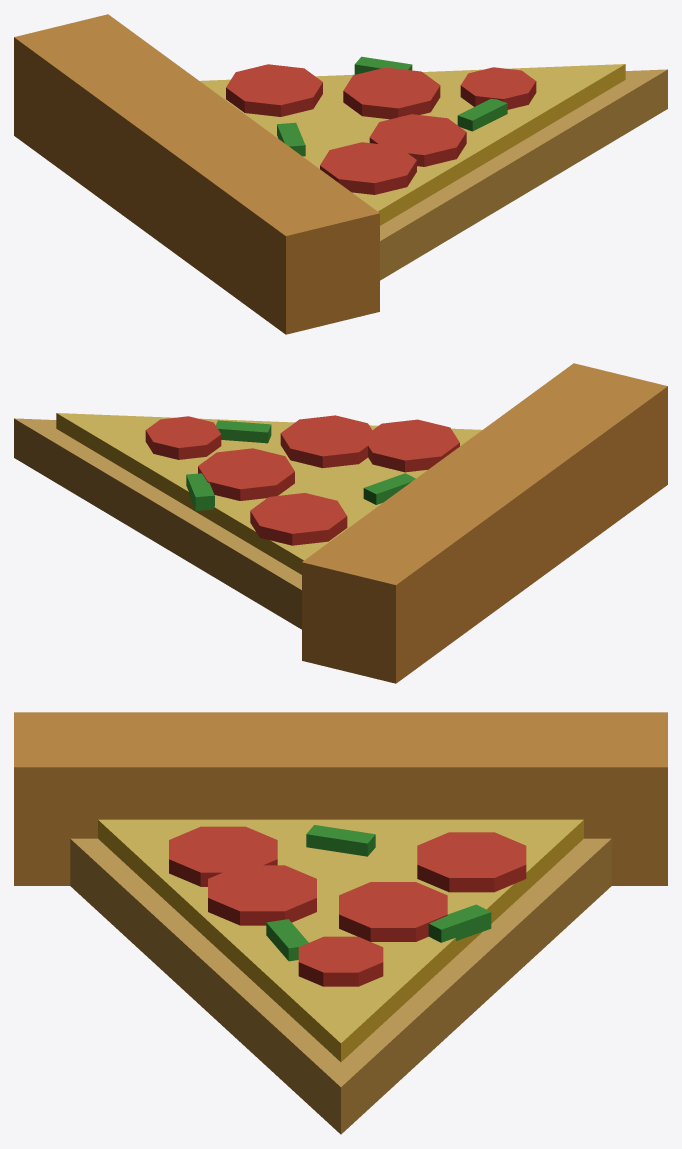
Rendered from pizza.glb.
The picture shows the model from 3 angles, top to bottom: view 1: azimuth 30°, elevation 25°; view 2: azimuth 150°, elevation 25°; view 3: azimuth 270°, elevation 25°; orthographic projection. The views are drawn at different scales.
Visible parts, largest first — view 1: pizza; view 2: pizza; view 3: pizza.
Part boxes in pixels (x1,y1,x2,y2): pizza: [14, 14, 667, 334]; pizza: [14, 363, 667, 683]; pizza: [14, 712, 667, 1134].
Size of the model in its own units: 0.5 by 0.0909 by 0.4545.
